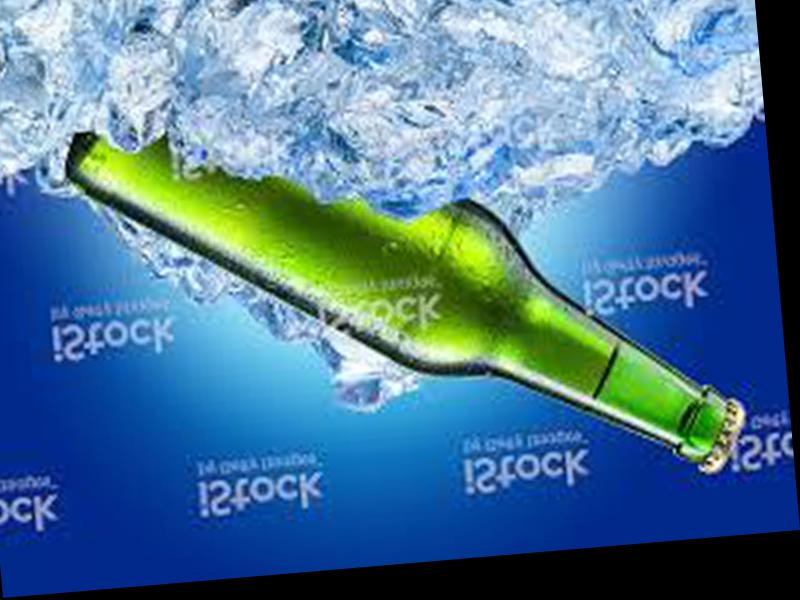Beer: (60, 77, 756, 529)
